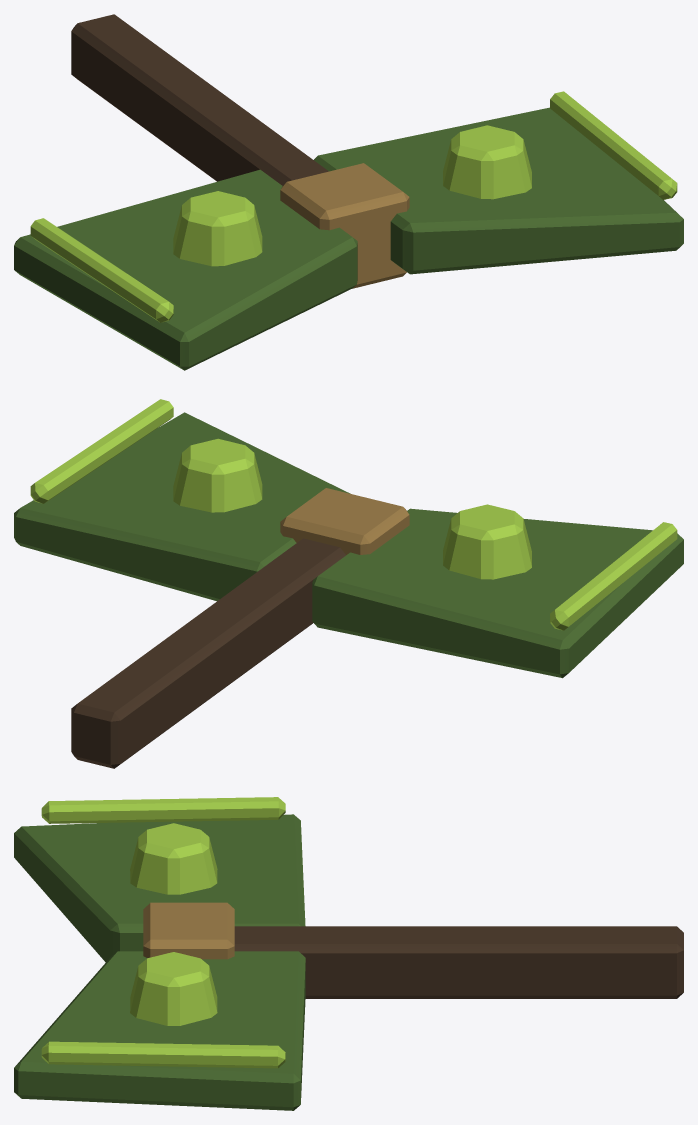
File: guardian_acid.glb
3 renders of one model, top to bottom at view 1: azimuth 30°, elevation 25°; view 2: azimuth 150°, elevation 25°; view 3: azimuth 270°, elevation 25°, orthographic. The views are drawn at different scales.
Visible parts, largest first — view 1: weapon.016; view 2: weapon.016; view 3: weapon.016.
Part boxes in pixels (left/top/right/bottom): weapon.016: left=14, top=14, right=683, bottom=370; weapon.016: left=14, top=399, right=683, bottom=768; weapon.016: left=14, top=797, right=683, bottom=1110.
Size of the model in its own units: 1.24 by 0.225 by 1.32.
